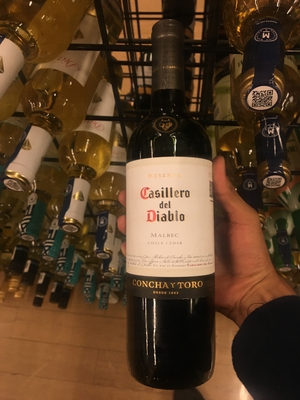casillero del diablo malbec: (116, 31, 241, 391)
